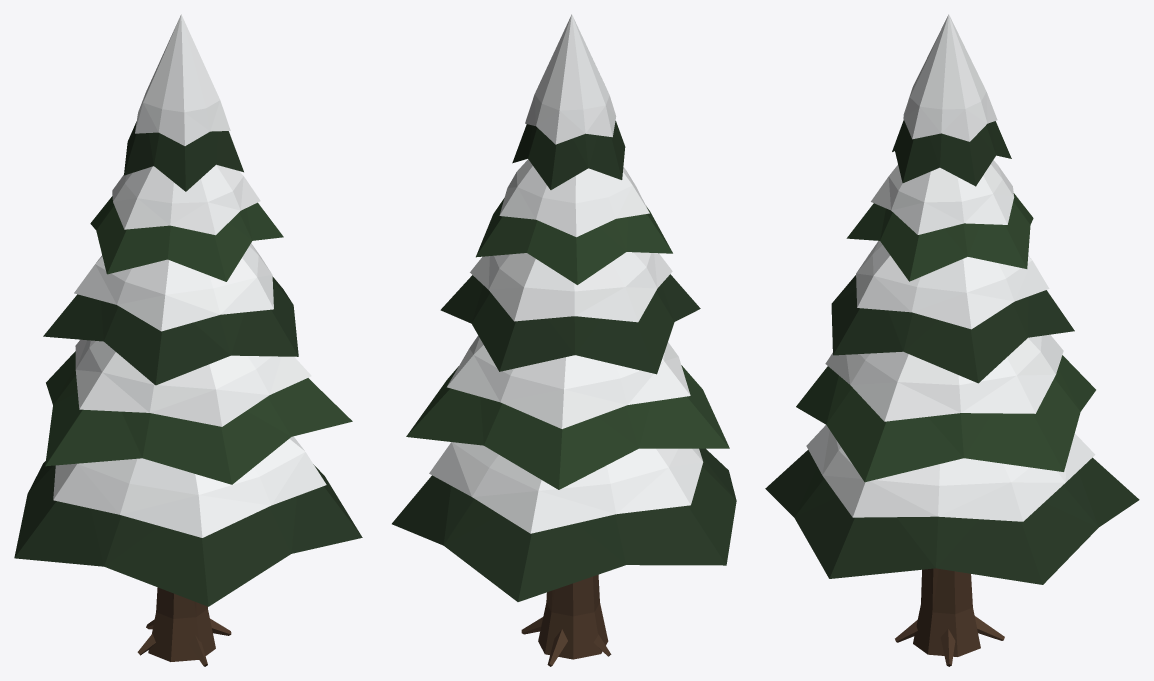
The model's file is Snow_Pine.fbx.
3 renders of one model, left to right at view 1: azimuth 30°, elevation 25°; view 2: azimuth 150°, elevation 25°; view 3: azimuth 270°, elevation 25°, orthographic.
Visible parts, largest first — view 1: Snow, Needles, Needles2, Trunk; view 2: Snow, Needles, Needles2, Trunk; view 3: Snow, Needles, Needles2, Trunk.
Part boxes in pixels (x1,y1,x2,y2): Snow: [53, 14, 326, 537]; Needles: [14, 121, 362, 606]; Needles2: [45, 196, 352, 484]; Trunk: [137, 587, 231, 666]; Snow: [429, 14, 703, 533]; Needles: [392, 121, 736, 601]; Needles2: [406, 198, 729, 489]; Trunk: [521, 574, 611, 666]; Snow: [806, 14, 1095, 521]; Needles: [765, 120, 1139, 584]; Needles2: [796, 193, 1095, 482]; Trunk: [895, 568, 1004, 666].
Bounding box in the file's own units: 8.01 × 16.27 × 8.77.
